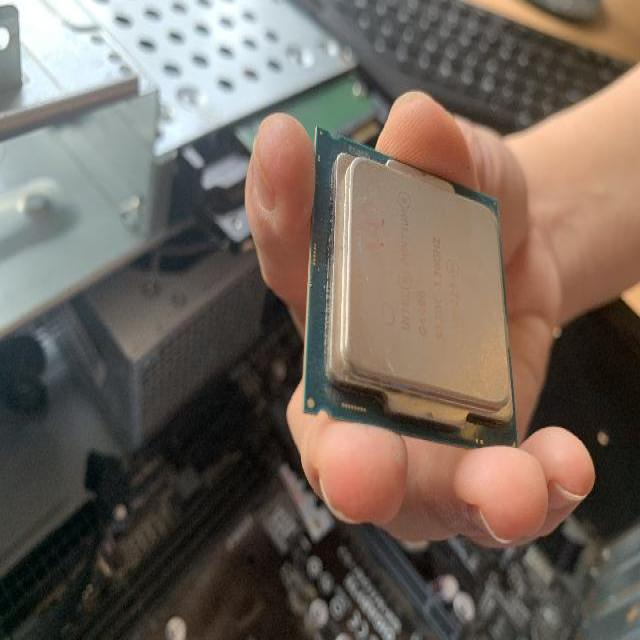CPU: (300, 121, 521, 455)
